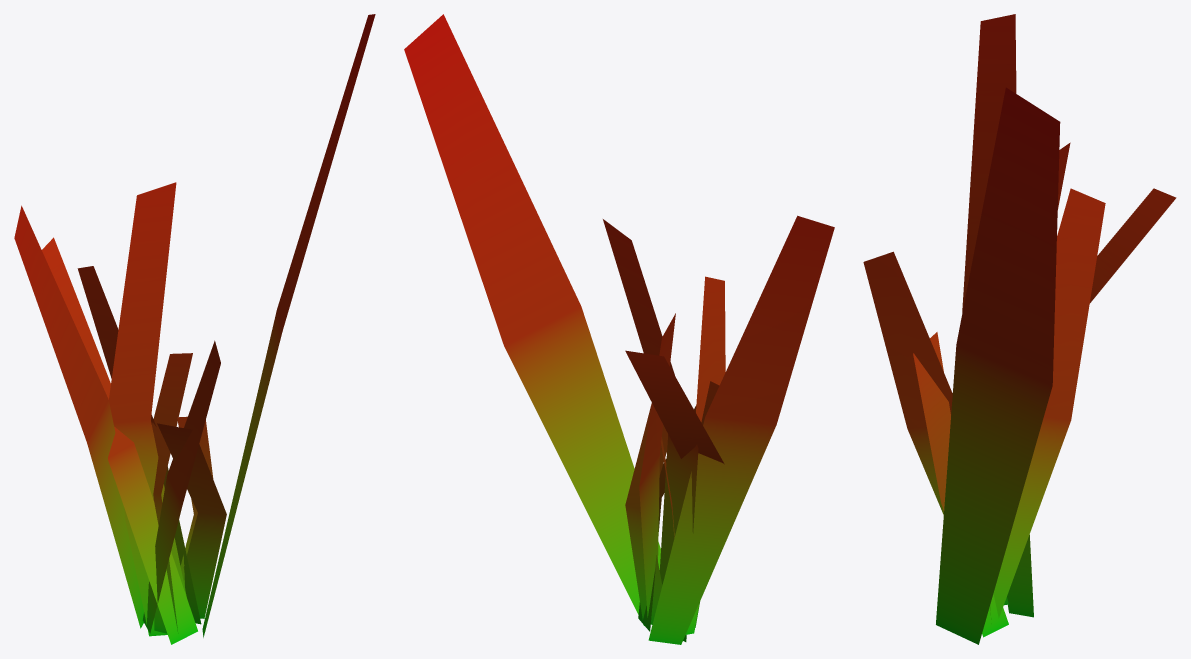
File: Leafy Nineawn_LOD1_Var6_tlijciuia.fbx
3 views of the same model, side by side, from view 1: azimuth 30°, elevation 25°; view 2: azimuth 150°, elevation 25°; view 3: azimuth 270°, elevation 25° (orthographic). The views are drawn at different scales.
Parts seen in each view (by area): view 1: _7ca0_Var6_LOD1; view 2: _7ca0_Var6_LOD1; view 3: _7ca0_Var6_LOD1.
Part boxes in pixels (bbox=[...]): _7ca0_Var6_LOD1: bbox=[14, 14, 375, 644]; _7ca0_Var6_LOD1: bbox=[404, 14, 834, 644]; _7ca0_Var6_LOD1: bbox=[863, 14, 1176, 644].
Bounding box in the file's own units: 4.56 × 6.32 × 2.7.
